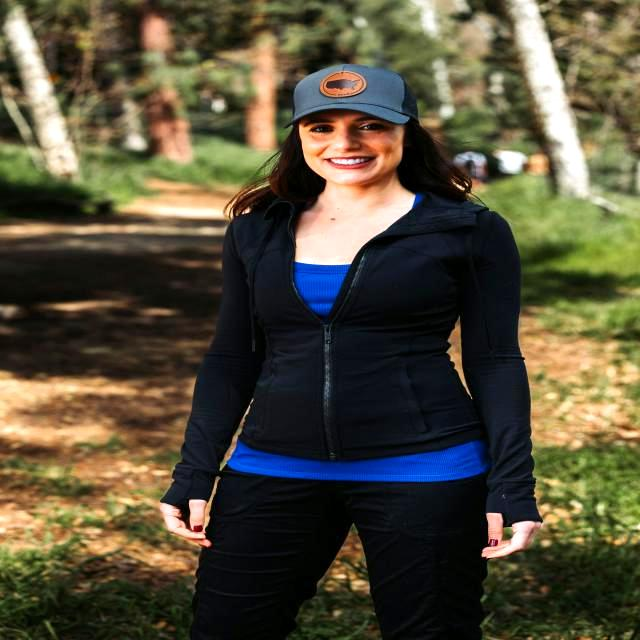no_hard_hat: (289, 64, 418, 125)
person: (162, 65, 542, 640)
